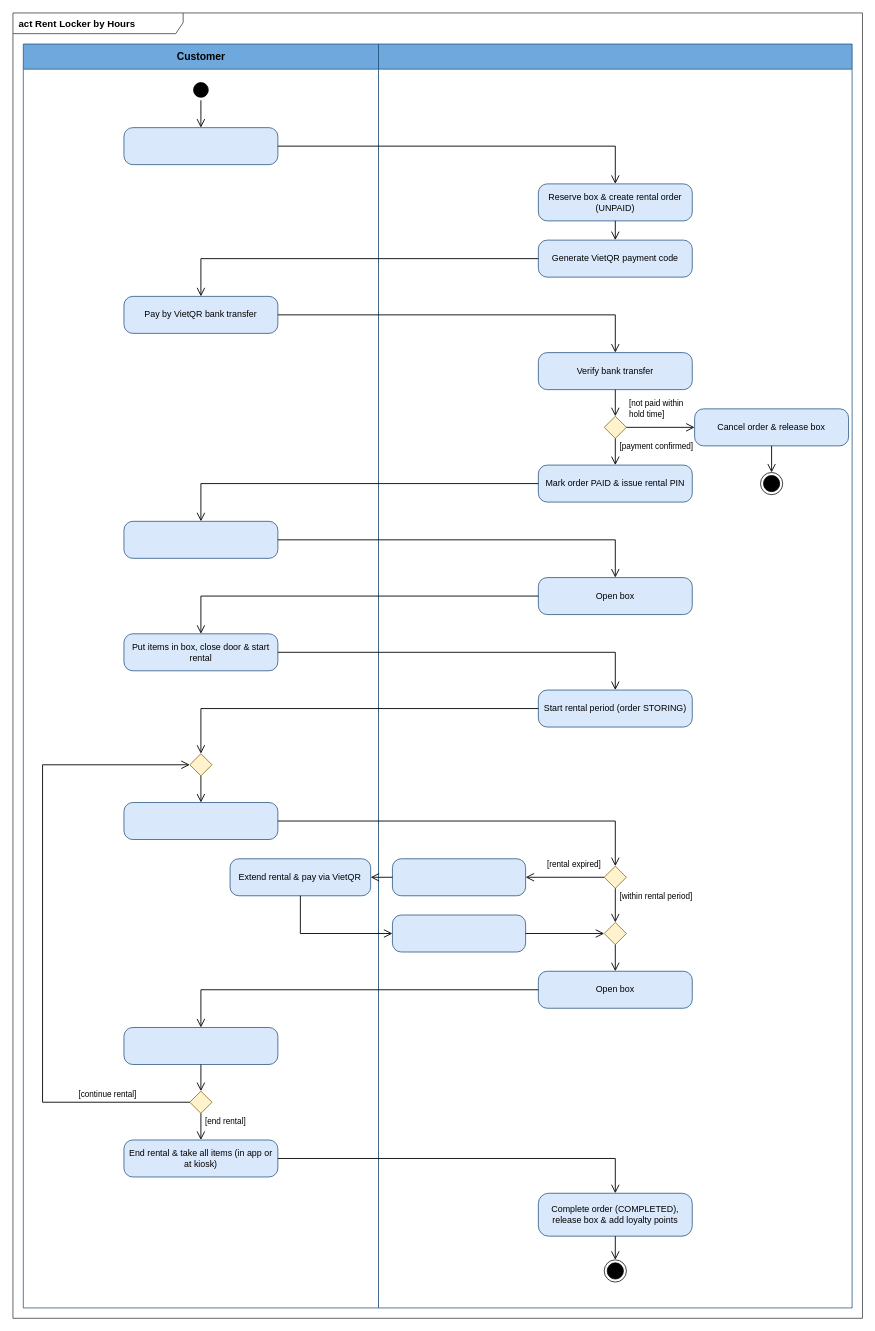
The diagram is 875 pixels wide and 1331 high, and some of its shapes have lost their labels. Each missing label, with the box of its shape:
Choose locker, box type & rental hours: (123, 127, 278, 165)
Open box again: enter PIN at kiosk or tap "Open box": (123, 802, 278, 840)
Reject PIN (RENTAL_EXPIRED): (392, 858, 526, 896)
System: (378, 43, 852, 1308)
Take or add items & close door: (123, 1027, 278, 1064)
Tap "Open box" in app or enter PIN at kiosk: (123, 521, 278, 558)
Verify payment & extend rental end time: (392, 914, 526, 952)
